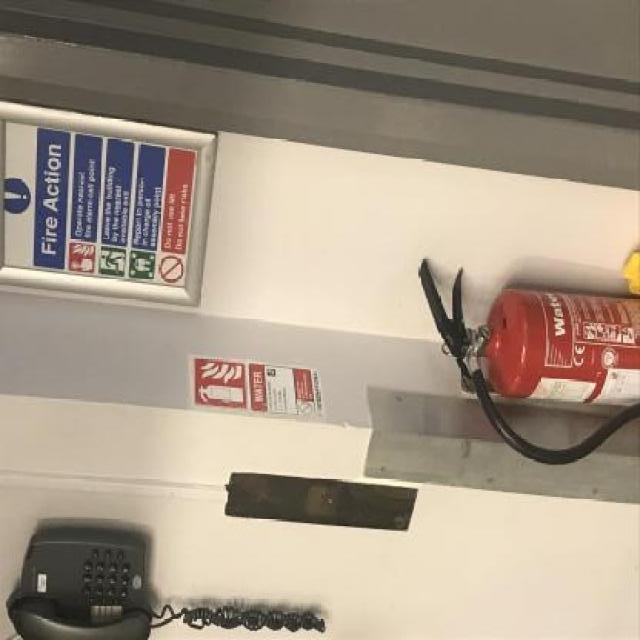fire extinguisher: (417, 258, 640, 464)
